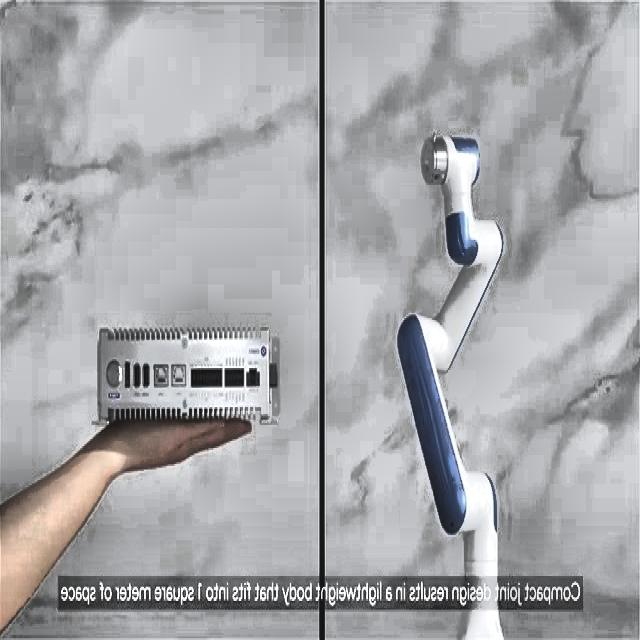robot: (397, 130, 507, 636)
